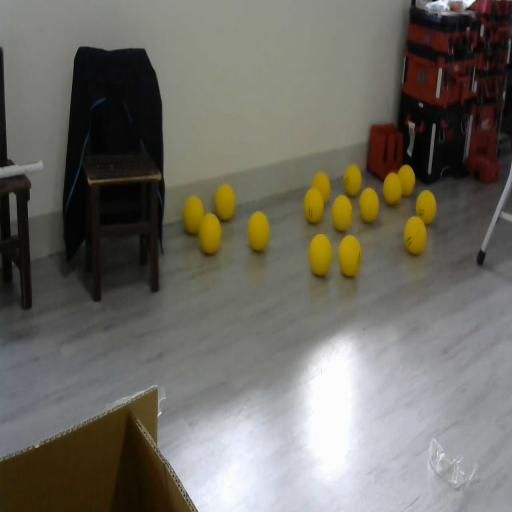FUEL: (337, 232, 362, 278), (308, 233, 332, 277), (198, 211, 222, 255), (247, 210, 271, 252), (403, 215, 427, 255), (182, 195, 204, 235), (214, 182, 236, 221), (358, 186, 380, 224), (332, 194, 352, 232), (416, 189, 436, 226), (342, 163, 362, 196), (383, 172, 402, 206), (312, 172, 330, 206)
